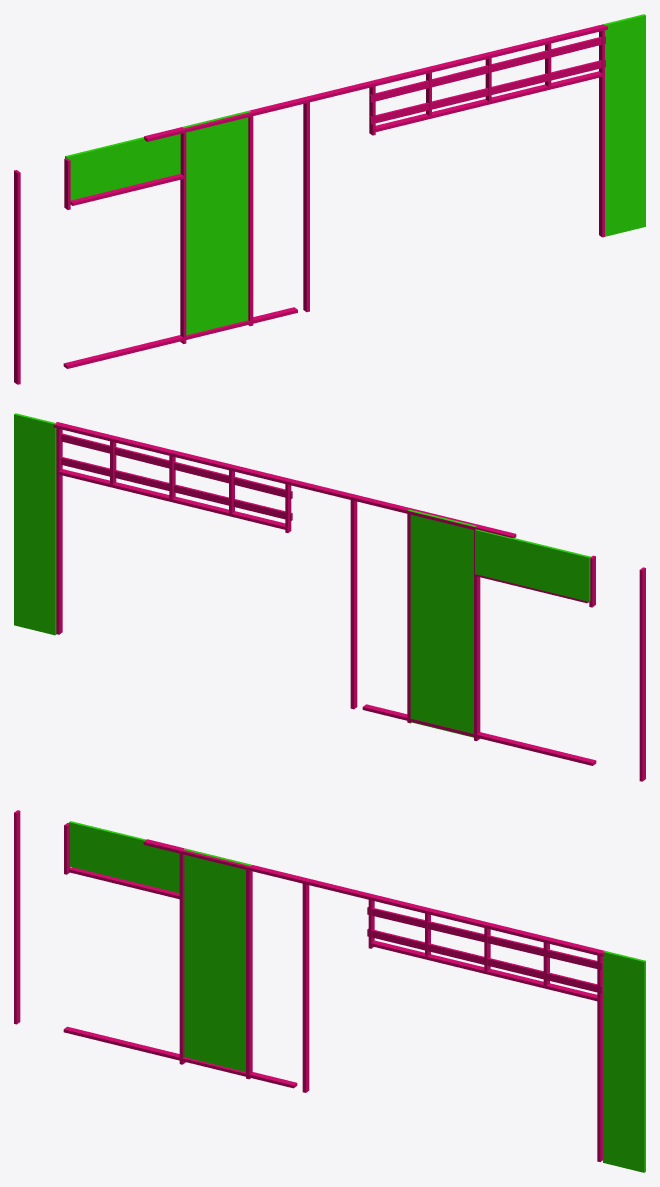
Rendered from BH03_Wall_01_Break_B1.fbx.
3 views of the same model, one above another, from view 1: azimuth 30°, elevation 25°; view 2: azimuth 150°, elevation 25°; view 3: azimuth 330°, elevation 25° (orthographic).
Visible parts, largest first — view 1: BH03_Wall_01_Break_B1; view 2: BH03_Wall_01_Break_B1; view 3: BH03_Wall_01_Break_B1.
Part boxes in pixels (x1=…): BH03_Wall_01_Break_B1: x1=14, y1=14, x2=645, y2=384; BH03_Wall_01_Break_B1: x1=14, y1=413, x2=645, y2=781; BH03_Wall_01_Break_B1: x1=14, y1=810, x2=645, y2=1172.
Size of the model in its own units: 936 by 304 by 12.18.
